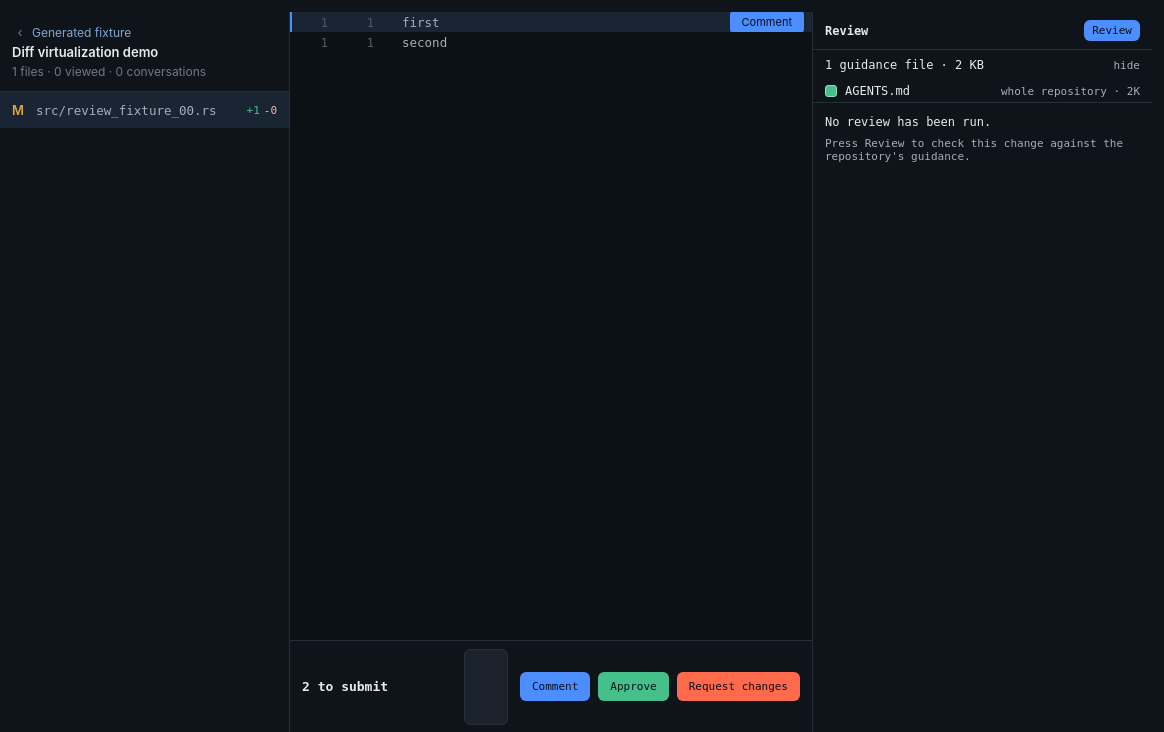
it: the confirmation › names the drafts it would leave behind, with why
Step 1. Click the button "Approve" → [634, 686], box [598,672,669,701]
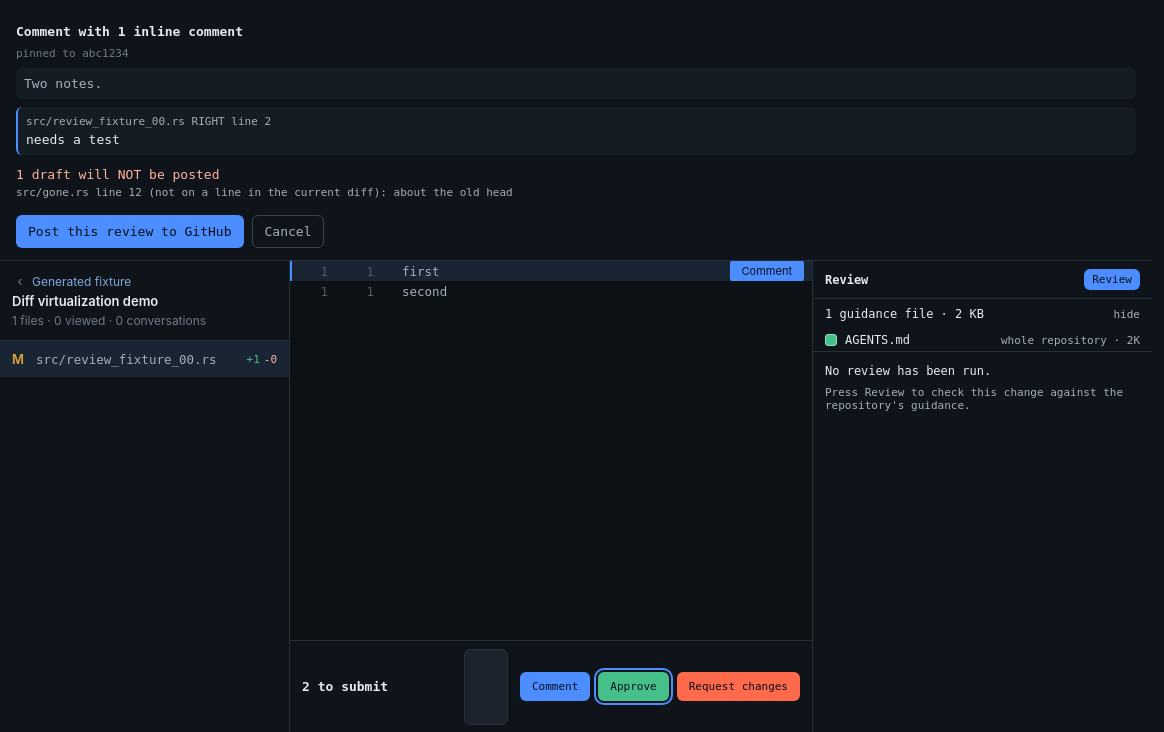
expect the button "Post this review to GitHub" is shown: met, box [16,215,244,248]
expect the text "1 draft will NOT be posted" is shown: met, box [16,167,220,182]
expect the list item "src/gone.rs line 12 (not on a line in the current diff): about the old head" is shown: met, box [16,186,513,199]
